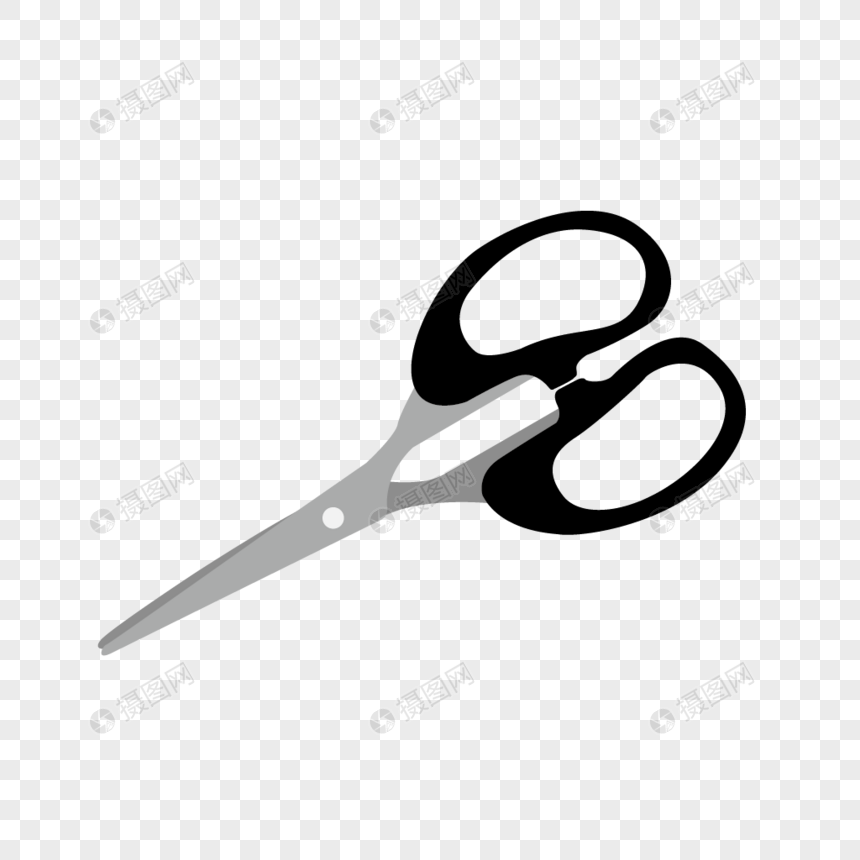scissor: (96, 208, 745, 661)
